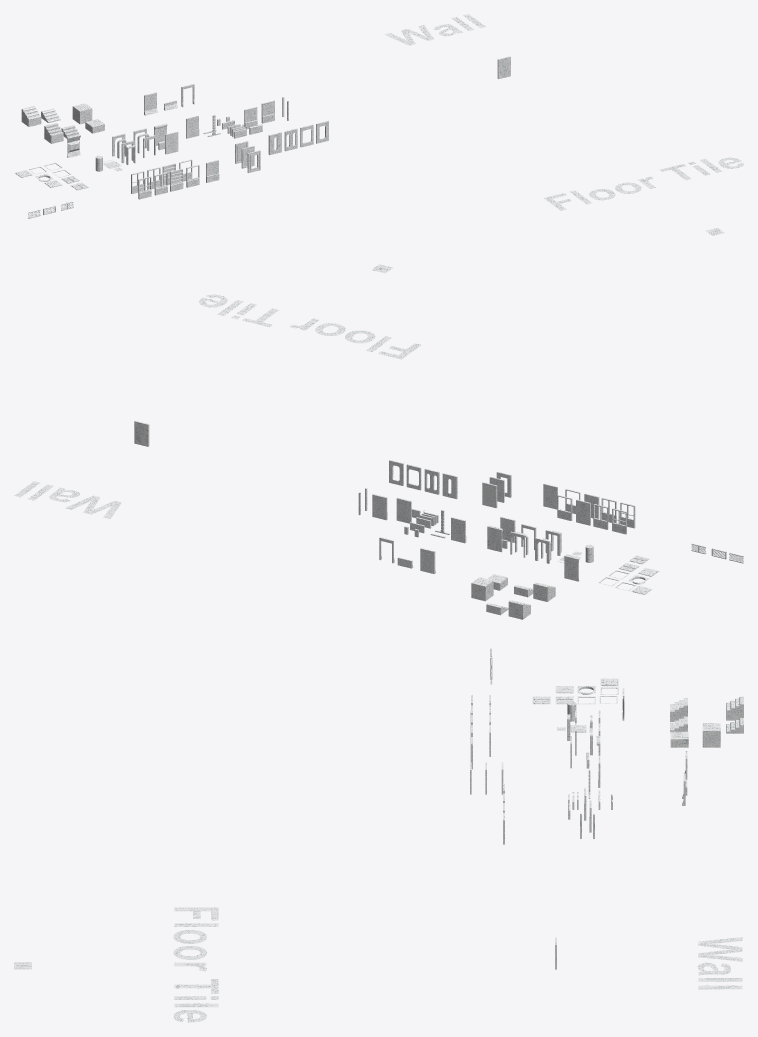
Rendered from Spectral Room Tiles.dae.
The picture shows the model from 3 angles, top to bottom: view 1: azimuth 30°, elevation 25°; view 2: azimuth 150°, elevation 25°; view 3: azimuth 270°, elevation 25°; orthographic projection. The views are drawn at different scales.
Visible parts, largest first — view 1: Wall_______Floor; view 2: no part large enough to name; view 3: Wall_______Floor.
Boxes of the visible parts, <box> form: Wall_______Floor: <box>384,25,433,45</box>; Wall_______Floor: <box>698,937,742,961</box>.
Bounding box in the file's own units: 95.88 × 80.73 × 3.31.
